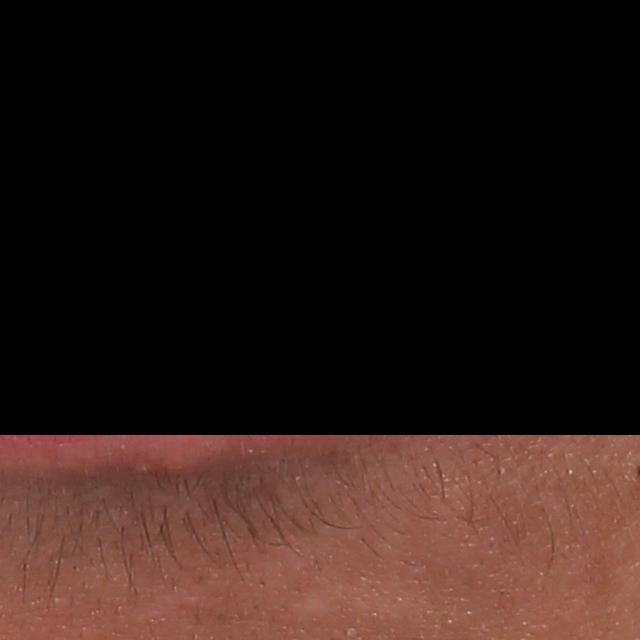hypertrophic_scar: (286, 586, 332, 626)
